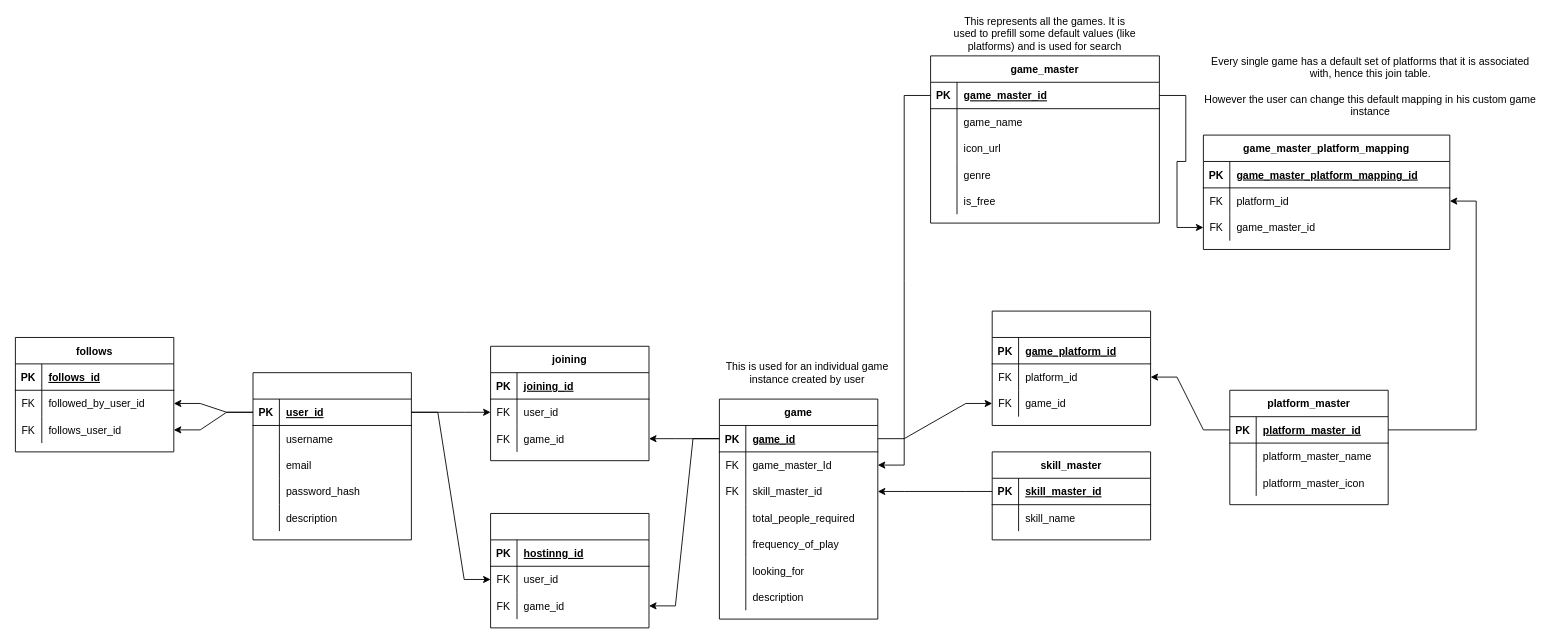
Image size: 1553x643. Some labels were removed from this diagram. The shapes that lost their labels are listed below. From the top down, each one's box as (x1, y1, x2, y2) in pixels, then its label:
(991, 310, 1151, 425): game_platform_mapping
(252, 372, 411, 540): user_master
(490, 513, 649, 628): hosting
